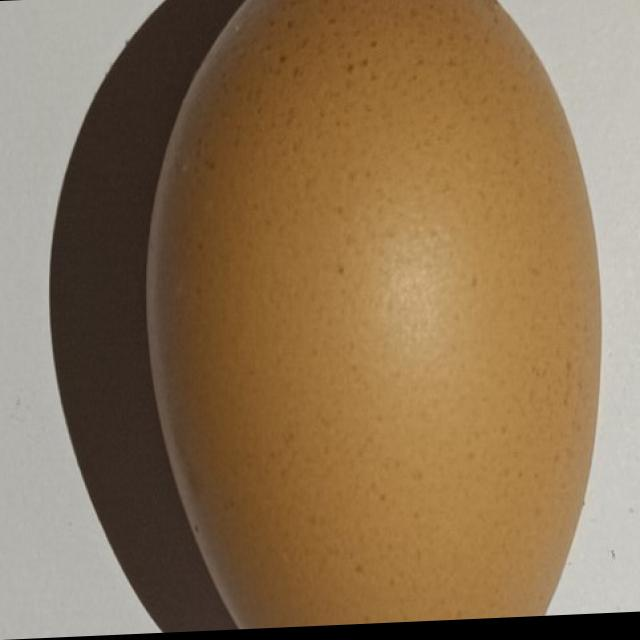fresh: (137, 0, 611, 635)
